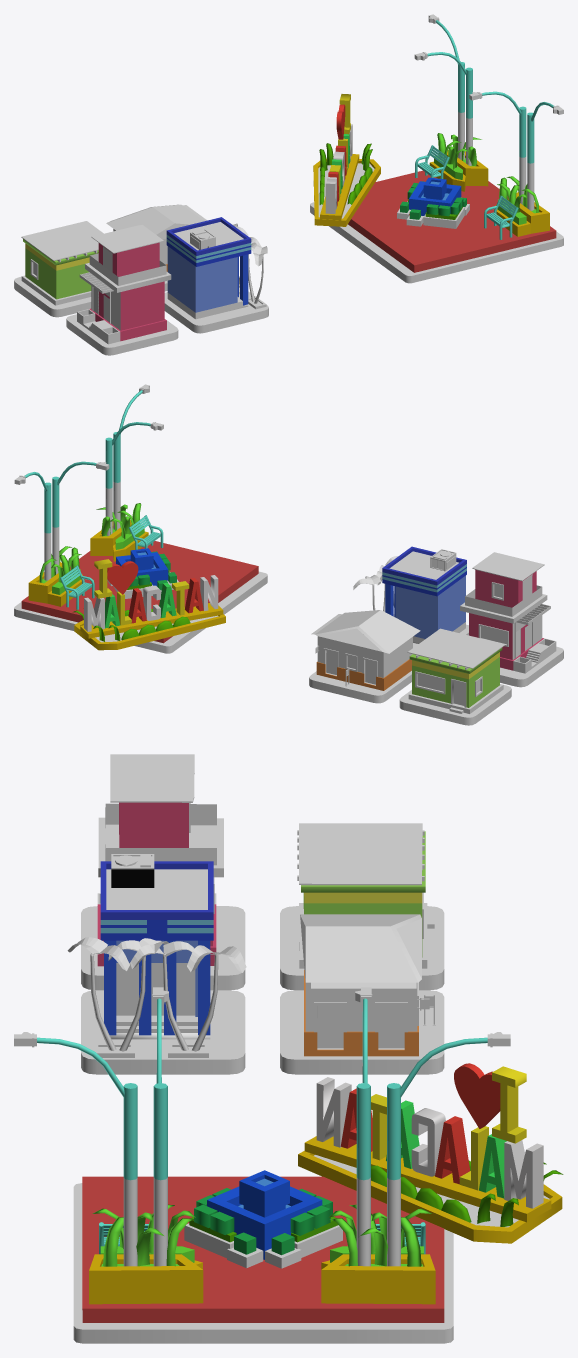
Rendered from parque_m.fbx.
3 views of the same model, one above another, from view 1: azimuth 30°, elevation 25°; view 2: azimuth 150°, elevation 25°; view 3: azimuth 270°, elevation 25° (orthographic). The views are drawn at different scales.
Visible parts, largest first — view 1: parque_m; view 2: parque_m; view 3: parque_m.
Part boxes in pixels (x1,y1,x2,y2): parque_m: [14, 14, 563, 355]; parque_m: [14, 384, 563, 725]; parque_m: [14, 754, 563, 1343].
Size of the model in its own units: 3057 by 977 by 1673.
